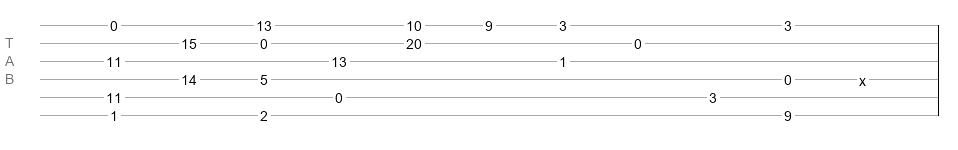0: (110, 18, 118, 28), (260, 36, 268, 46), (335, 90, 343, 100), (634, 36, 642, 46), (784, 72, 792, 82)
1: (110, 108, 118, 118), (559, 54, 567, 64)
10: (406, 18, 422, 28)
11: (106, 54, 122, 64), (106, 90, 122, 100)
13: (256, 18, 272, 28), (331, 54, 347, 64)
14: (181, 72, 197, 82)
15: (181, 36, 197, 46)
2: (260, 108, 268, 118)
20: (406, 36, 422, 46)
3: (559, 18, 567, 28), (709, 90, 717, 100), (784, 18, 792, 28)
5: (260, 72, 268, 82)
9: (485, 18, 493, 28), (784, 108, 792, 118)
x: (859, 73, 866, 81)
